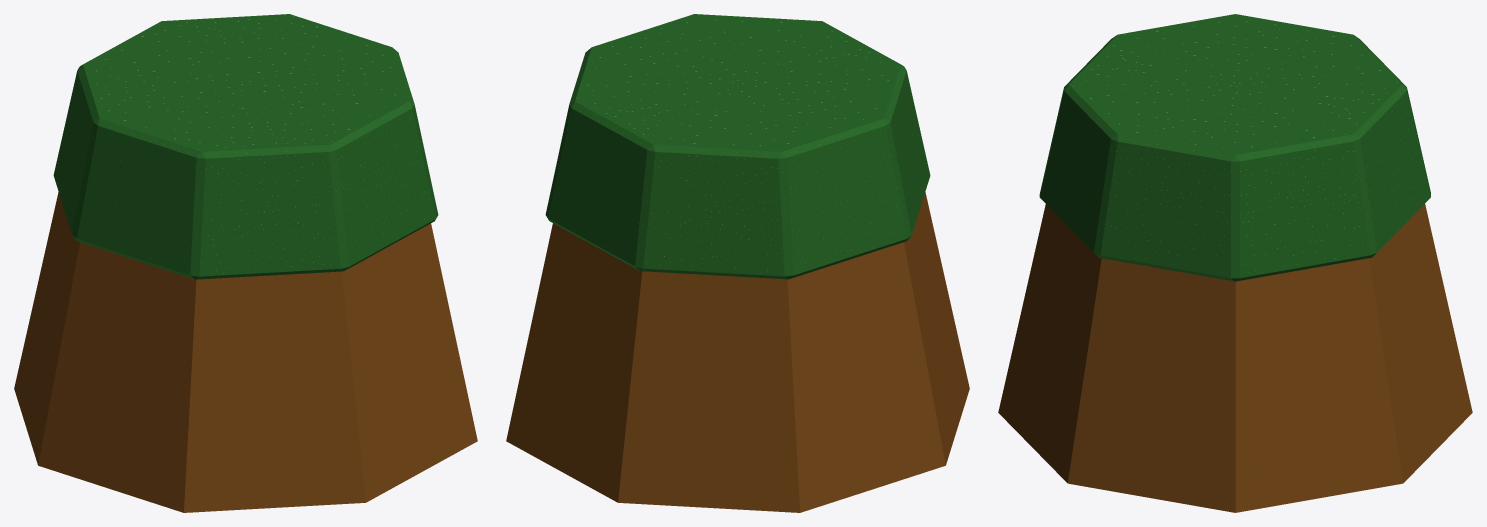
File: mountain1.fbx
3 views of the same model, side by side, from view 1: azimuth 30°, elevation 25°; view 2: azimuth 150°, elevation 25°; view 3: azimuth 270°, elevation 25° (orthographic).
Parts seen in each view (by area): view 1: Cylinder, Cylinder.001; view 2: Cylinder, Cylinder.001; view 3: Cylinder, Cylinder.001.
Boxes of the visible parts, <box> form: Cylinder: <box>14,192,477,512</box>; Cylinder.001: <box>53,14,438,279</box>; Cylinder: <box>506,192,969,512</box>; Cylinder.001: <box>545,14,930,279</box>; Cylinder: <box>998,204,1472,512</box>; Cylinder.001: <box>1039,14,1430,281</box>.
Size of the model in its own units: 395 by 302 by 395.
